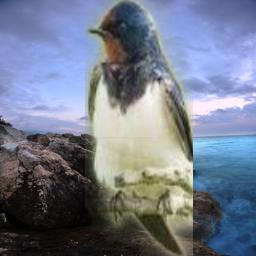Swallow: (85, 0, 193, 256)
